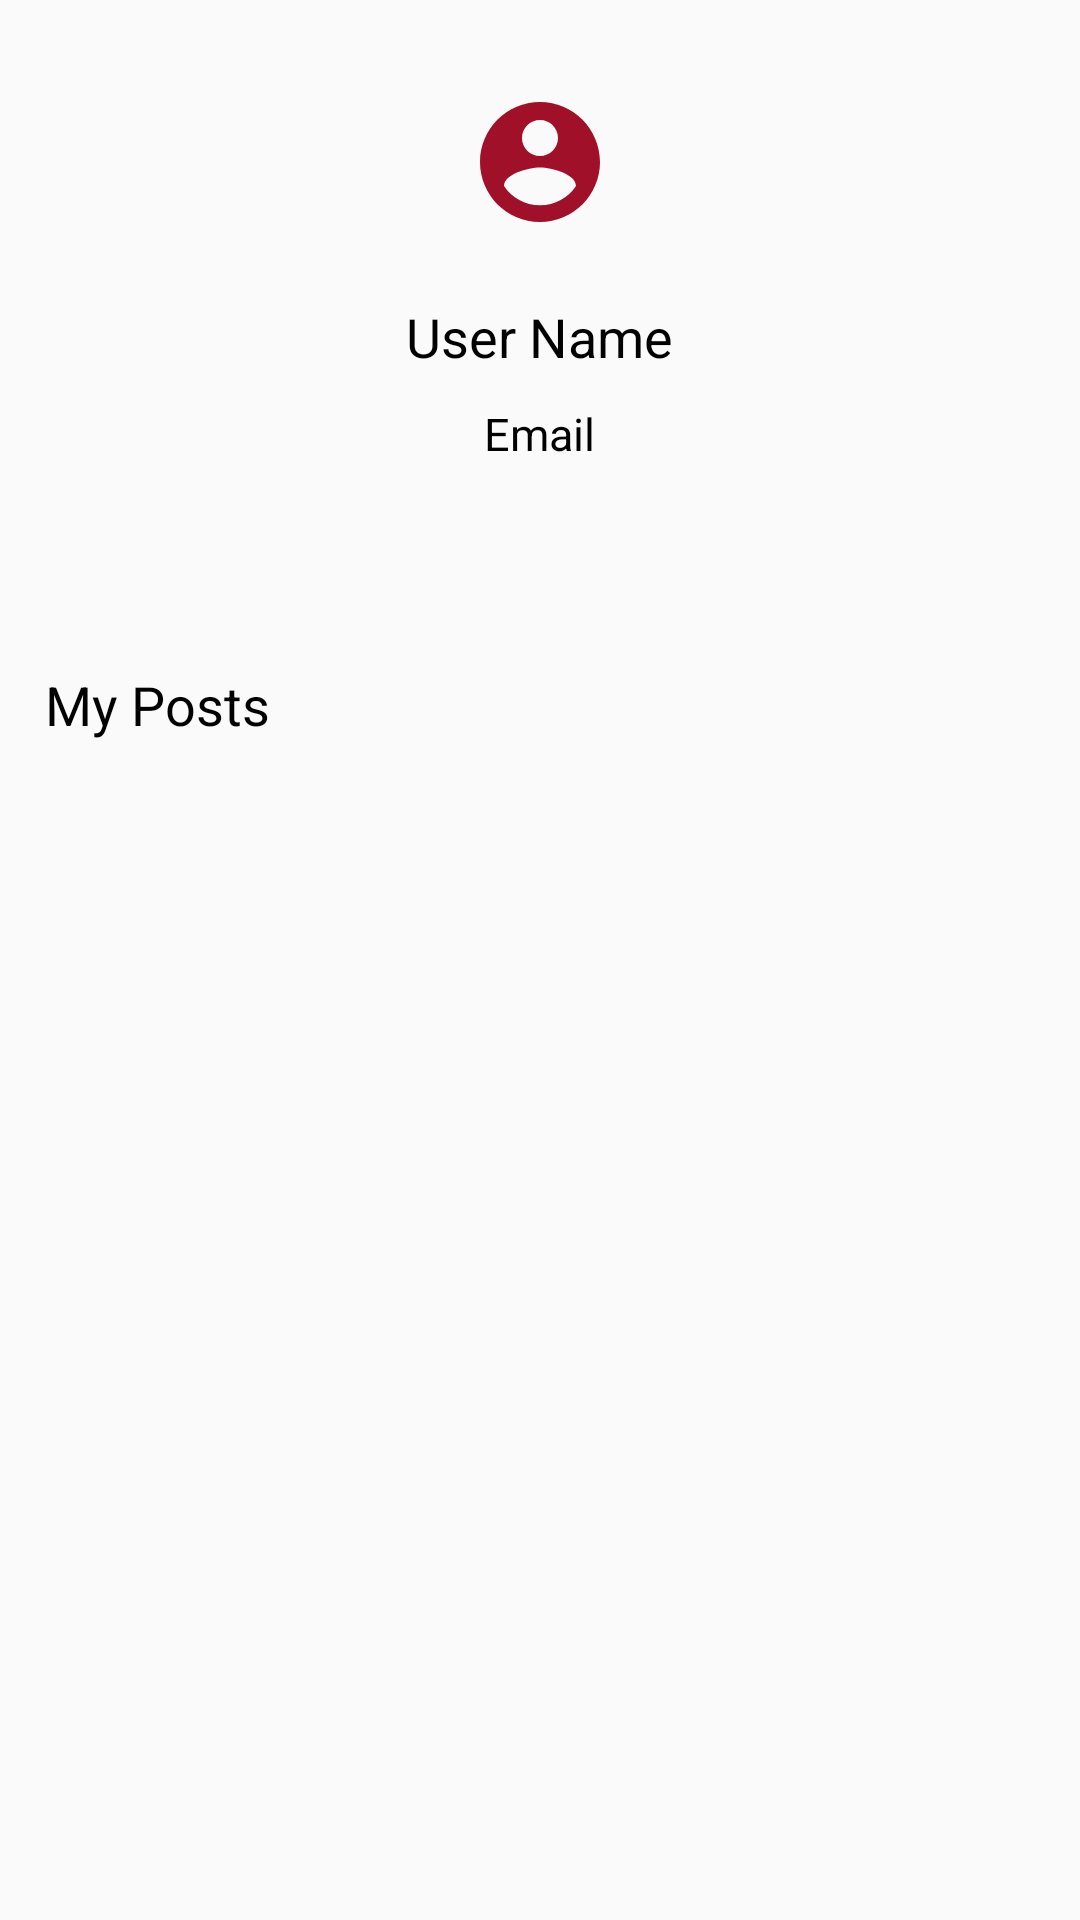

Locate icon controls on the screen. Image size 1080 × 1920, boxes as (x1, y1, x2, y2).
account circle: (480, 102, 600, 222)
